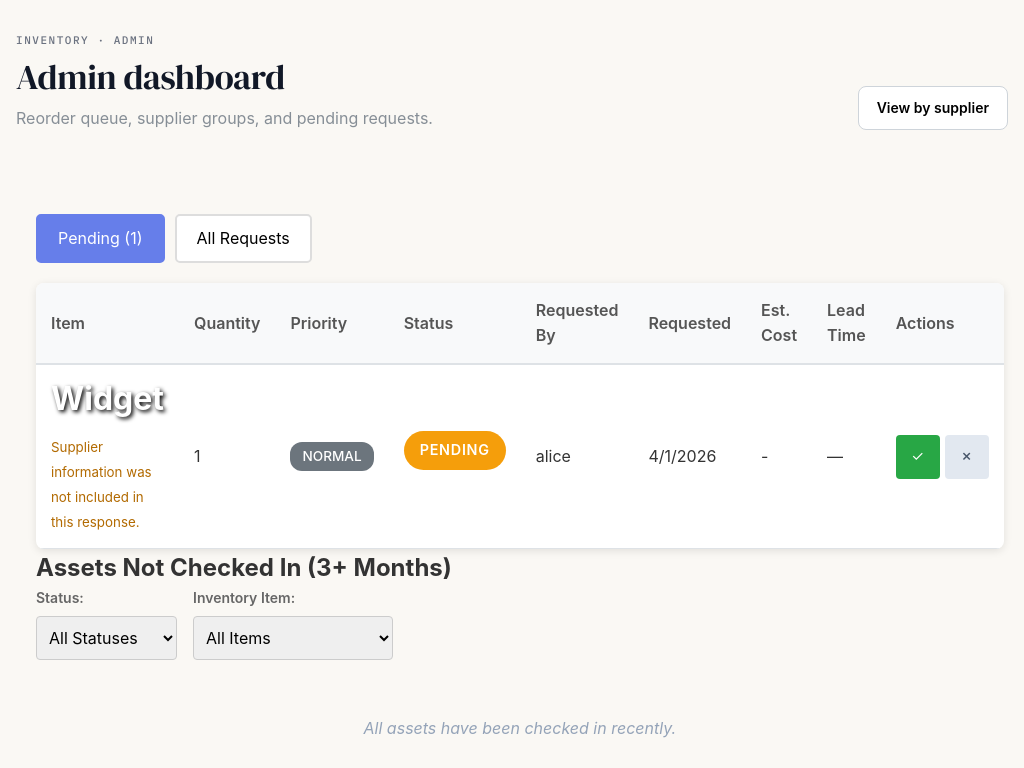
AdminDashboard — reactive contract (gh-453) › patches the row in place from the API response — no full reload
The image size is (1024, 768).
Click the button titled "Approve". click: (918, 457)
box: 896,435 -> 940,479
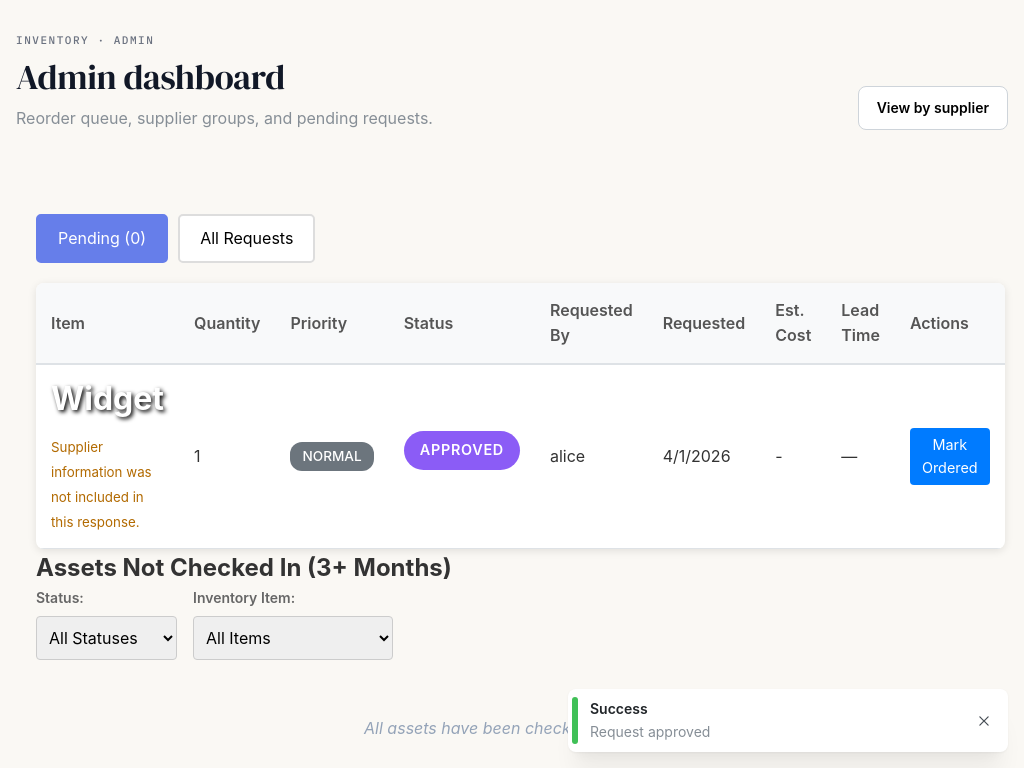
Check: the text "approved" is shown, box 404,431 -> 520,470
